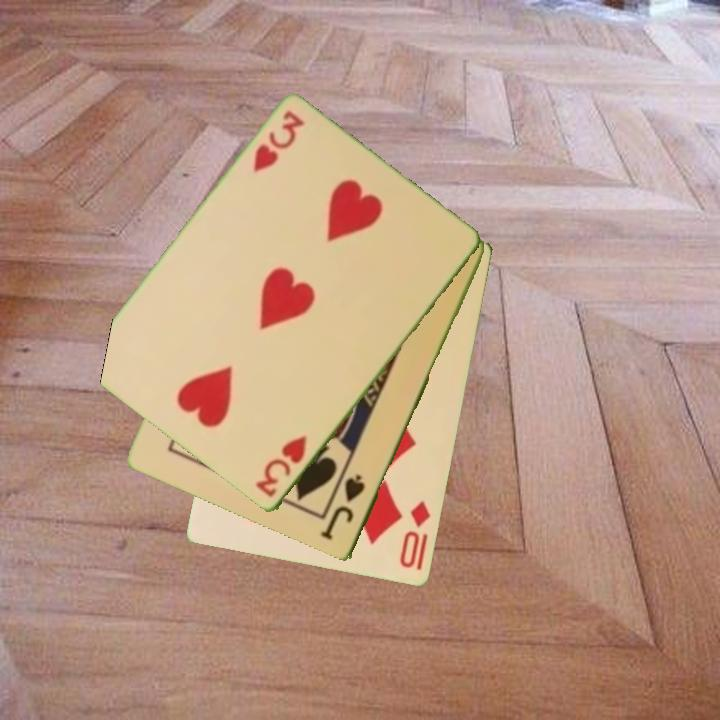10d: (396, 498, 434, 572)
3h: (249, 107, 308, 175), (252, 432, 310, 501)
Js: (320, 471, 369, 544)
